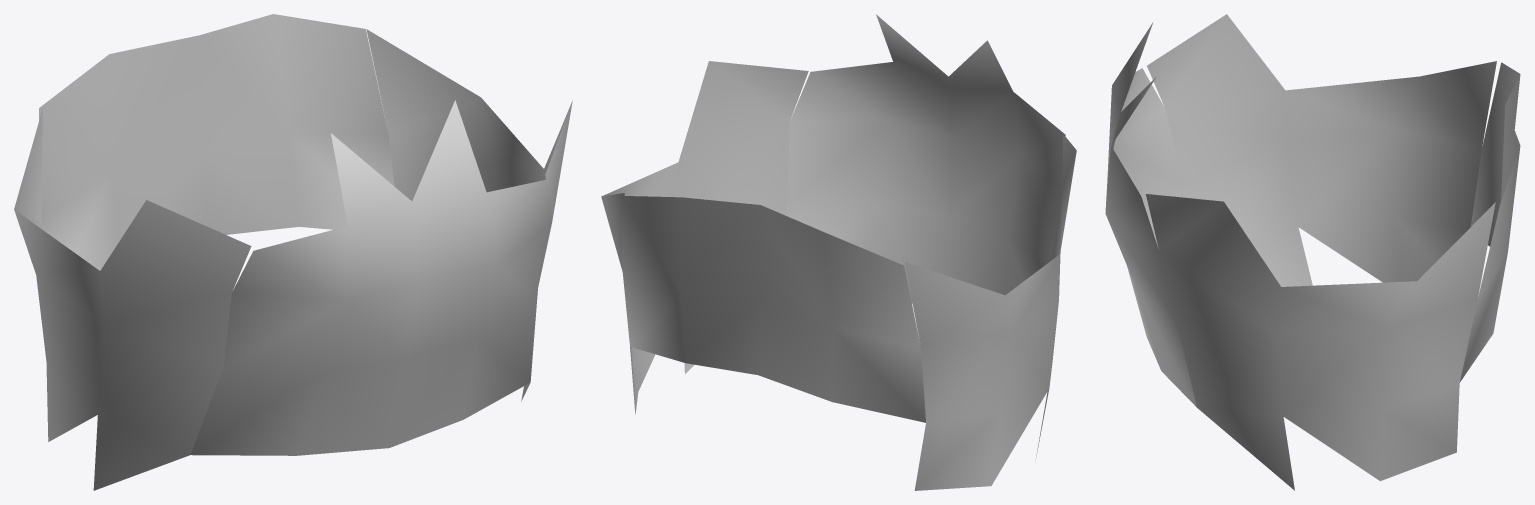
File: spine1.glb
3 renders of one model, left to right at view 1: azimuth 30°, elevation 25°; view 2: azimuth 150°, elevation 25°; view 3: azimuth 270°, elevation 25°, orthographic. The views are drawn at different scales.
Visible parts, largest first — view 1: sweater-white_SPINE1; view 2: sweater-white_SPINE1; view 3: sweater-white_SPINE1.
Boxes of the visible parts, left/top/right/bottom form: sweater-white_SPINE1: left=14, top=14, right=572, bottom=490; sweater-white_SPINE1: left=601, top=14, right=1076, bottom=490; sweater-white_SPINE1: left=1105, top=14, right=1520, bottom=490.
Bounding box in the file's own units: 0.3761 × 0.3034 × 0.3237.
1 material, 1 textured.
